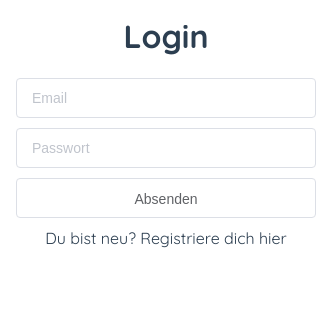
Test: Login › login › shows register header text if the user wants to register
Click the element with test id "register_now".
click(166, 238)  # box [45,228,287,248]
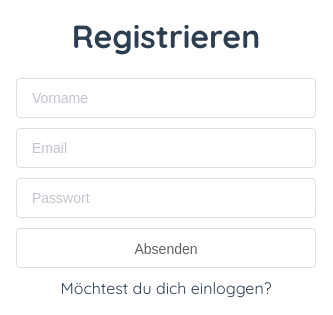
Check: the heading with test id "header" reads "Registrieren", box [72,16,260,56]
